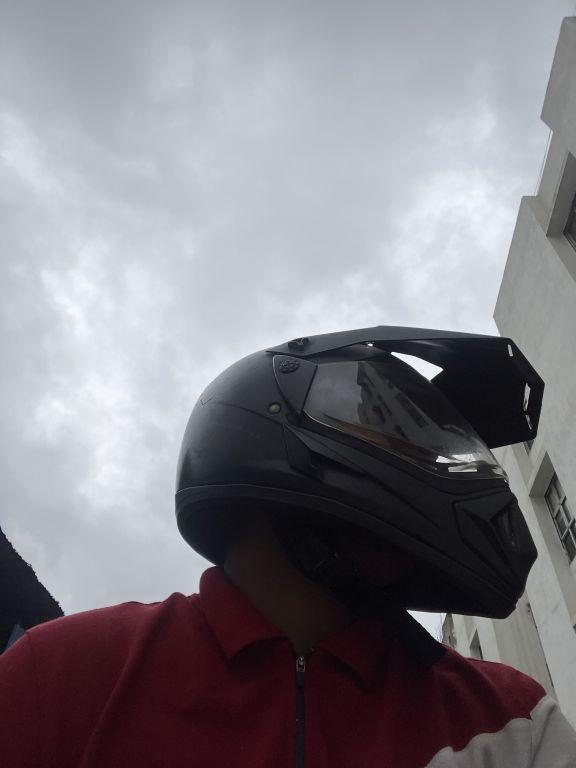helmet: (169, 309, 548, 627)
